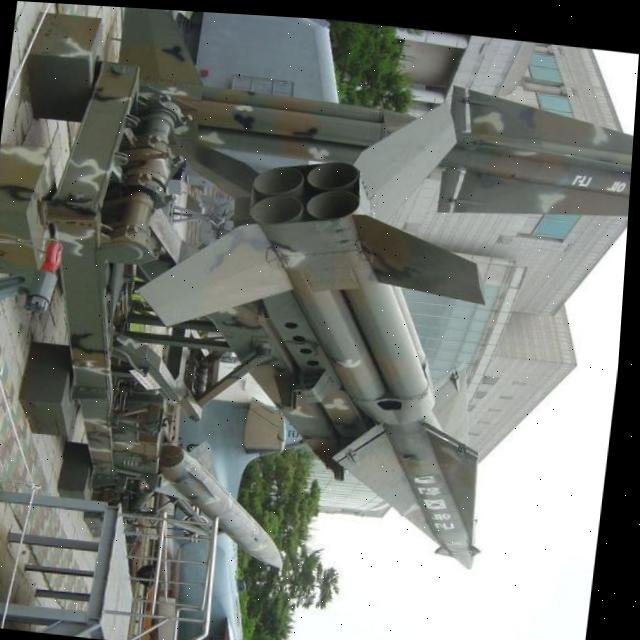missile: (144, 95, 533, 567), (152, 431, 314, 565)
